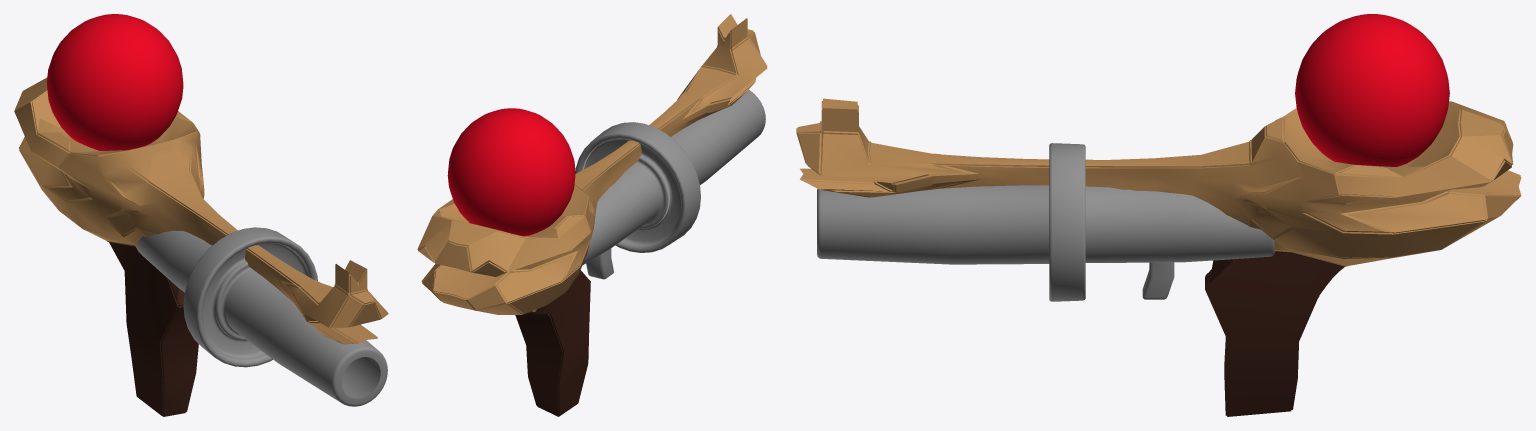
The model's file is ArmaDeAlmas.fbx.
3 views of the same model, side by side, from view 1: azimuth 30°, elevation 25°; view 2: azimuth 150°, elevation 25°; view 3: azimuth 270°, elevation 25° (orthographic). The views are drawn at different scales.
Parts seen in each view (by area): view 1: Mango, Cañon, Sphere; view 2: Mango, Cañon, Sphere; view 3: Mango, Cañon, Sphere.
Boxes of the visible parts, x1=… form: Mango: x1=14, y1=77, x2=388, y2=416; Cañon: x1=135, y1=227, x2=387, y2=406; Sphere: x1=46, y1=14, x2=183, y2=150; Mango: x1=417, y1=14, x2=767, y2=416; Cañon: x1=575, y1=90, x2=765, y2=279; Sphere: x1=447, y1=108, x2=575, y2=236; Mango: x1=796, y1=98, x2=1521, y2=416; Cañon: x1=817, y1=143, x2=1274, y2=301; Sphere: x1=1295, y1=14, x2=1449, y2=166.
Size of the model in its own units: 155 by 349 by 579.
